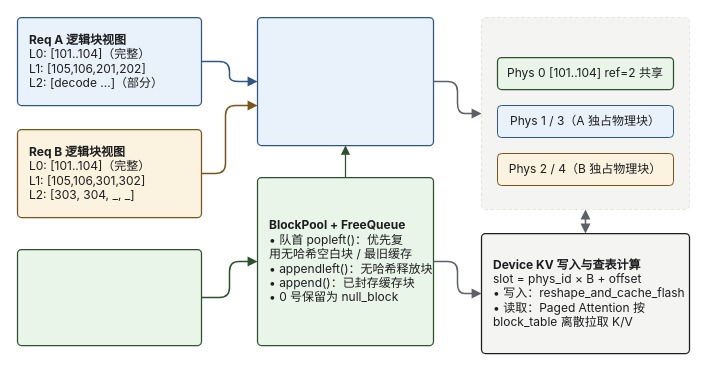
The diagram is 708 pixels wide and 372 high, and some of its shapes have lost their labels. Each missing label, with the box of its shape:
BlockTable（页表映射） 逻辑下标 → 物理块号 • A: [ 0, 1, 3 ] • B: [ 0, 2, 4 ] （零复制，仅增 ref_cnt）: (256, 16, 434, 146)
物理 HBM KV 块池（B × d_kv）: (480, 16, 690, 210)
链式前缀哈希（Prefix） h₀ = hash(NONE, L0) h₁ = hash(h₀, L1, extra) 仅满块（size=B）进入哈希表: (16, 248, 202, 346)
